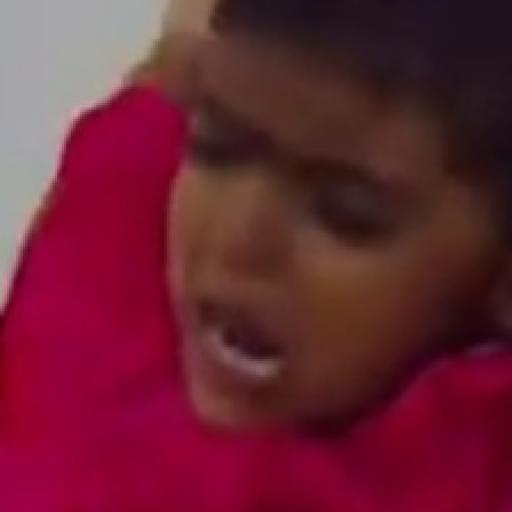Autism: (168, 14, 474, 464)
